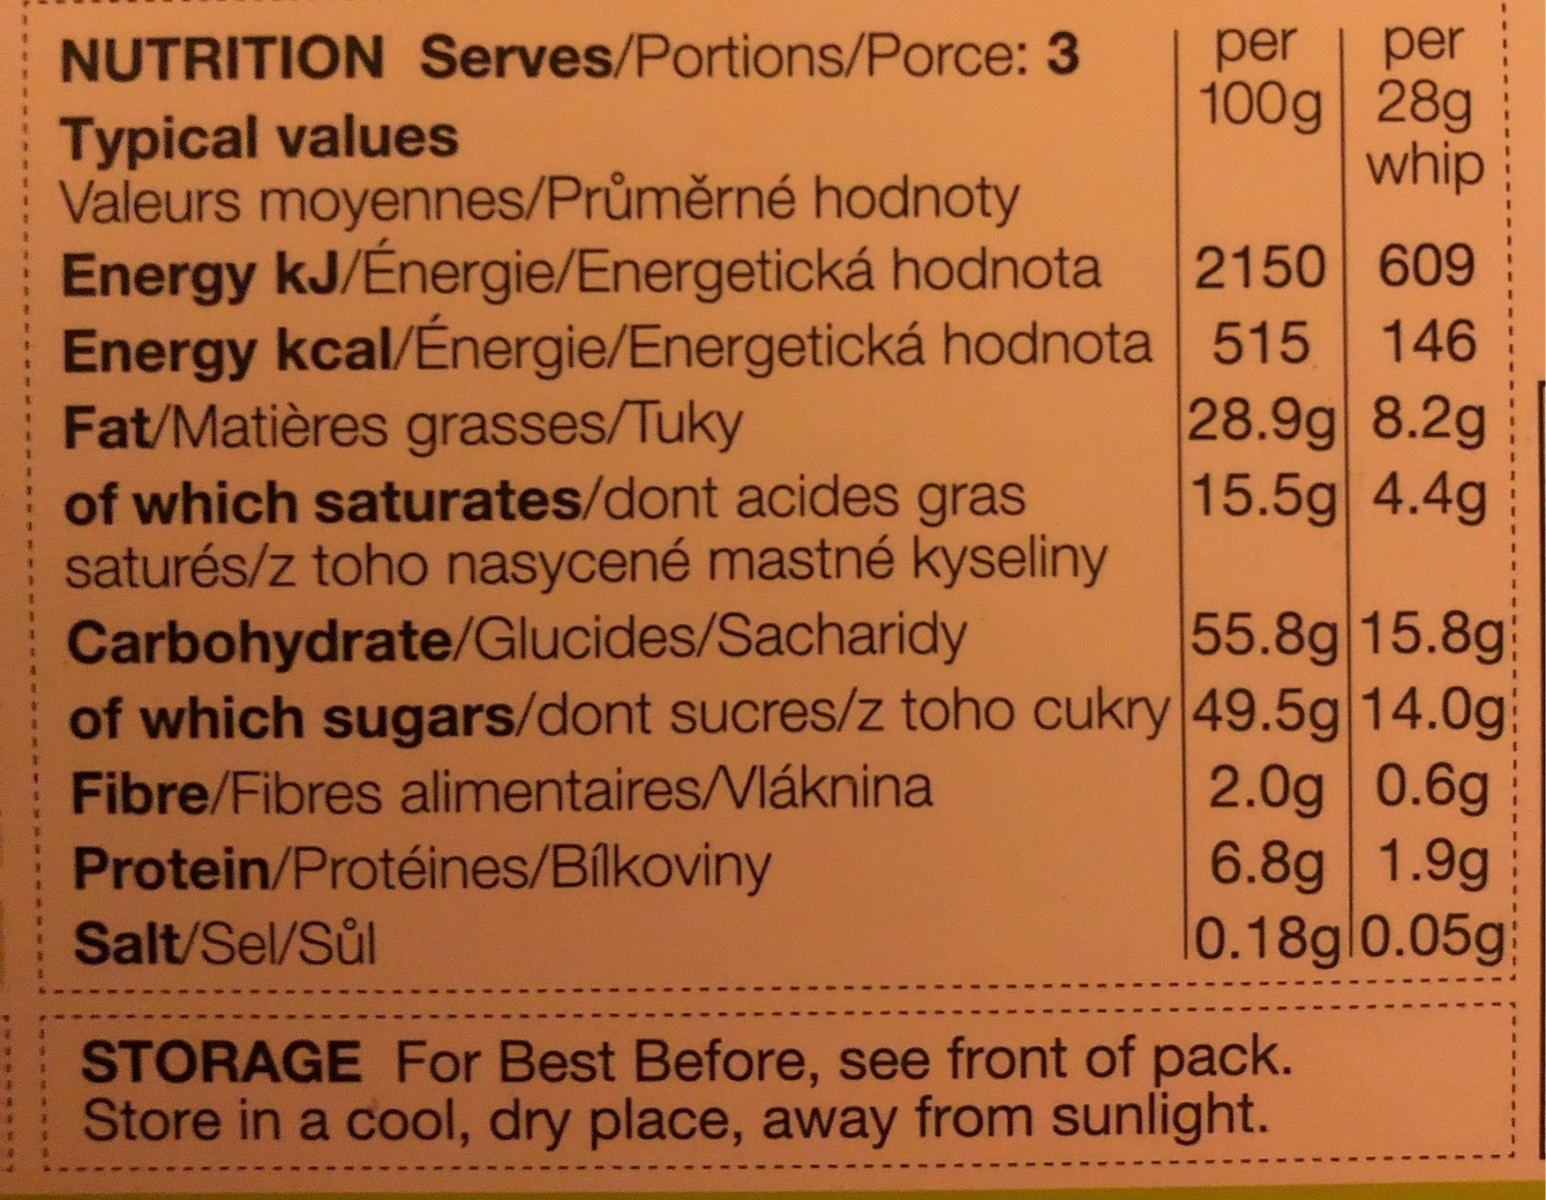column: (61, 29, 1171, 967), (1360, 23, 1508, 974), (1190, 24, 1336, 973)
table: (21, 3, 1522, 997)
